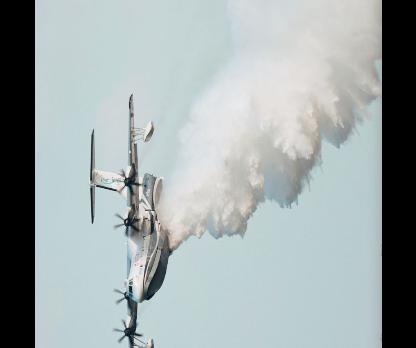AG600: (87, 94, 172, 347)
